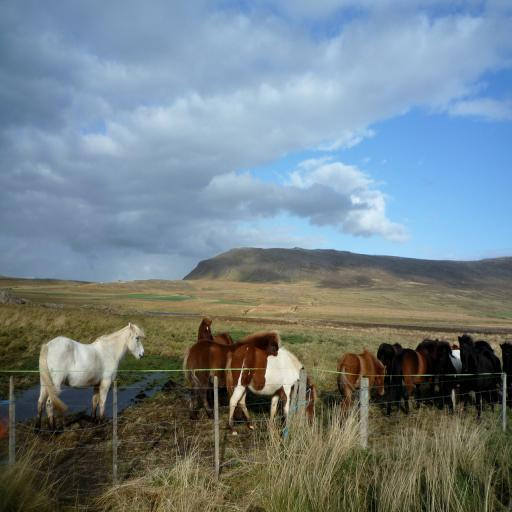Horse: (336, 332, 512, 424), (35, 322, 145, 437), (222, 342, 318, 438), (180, 328, 281, 418), (196, 314, 235, 398), (197, 317, 232, 343)
